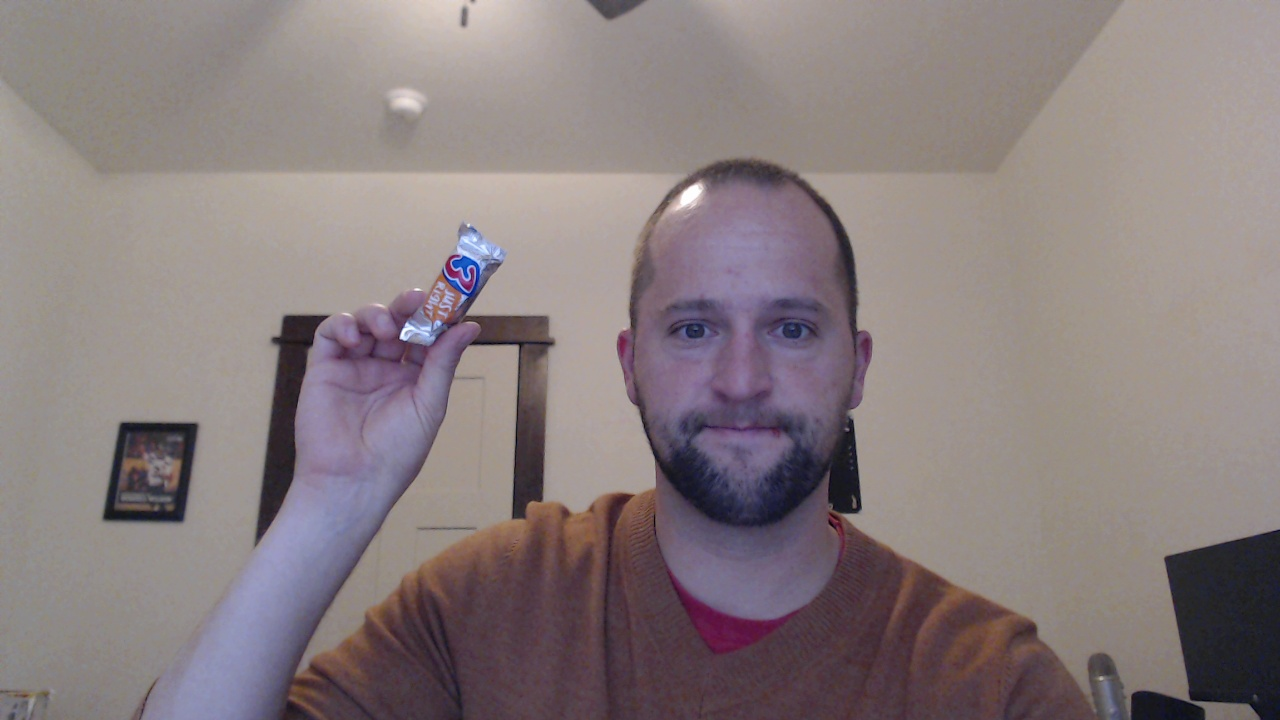three_musketeers: (364, 207, 535, 367)
